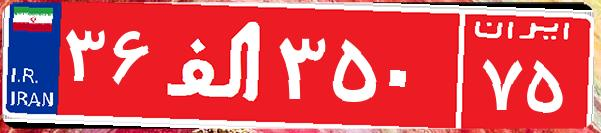0: (385, 28, 445, 110)
3: (273, 28, 330, 110), (57, 26, 110, 107)
5: (330, 28, 385, 110), (525, 38, 570, 115)
6: (110, 28, 158, 105)
7: (475, 38, 525, 113)
الف: (158, 15, 273, 115)
